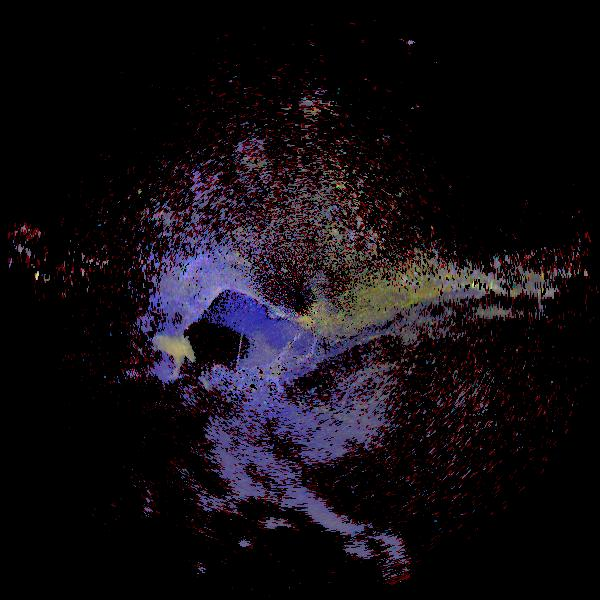roost: (124, 324, 208, 408)
